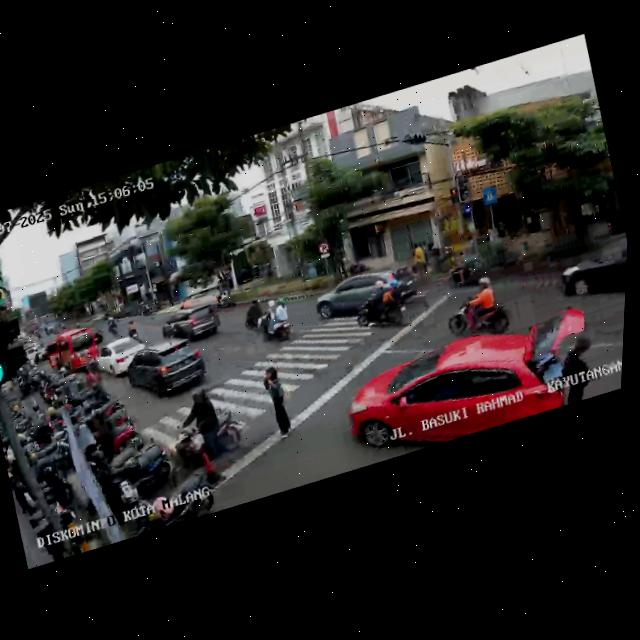car: (335, 305, 584, 469), (308, 256, 418, 327), (119, 328, 212, 406), (551, 237, 628, 315), (153, 291, 225, 351), (40, 323, 102, 380), (91, 331, 152, 382)
motorcycle: (154, 376, 258, 486), (438, 270, 517, 350), (350, 273, 413, 342), (441, 240, 494, 292), (251, 292, 298, 350), (239, 295, 265, 331), (212, 281, 232, 309), (124, 318, 142, 345), (104, 312, 119, 337)
person: (256, 361, 302, 445)
